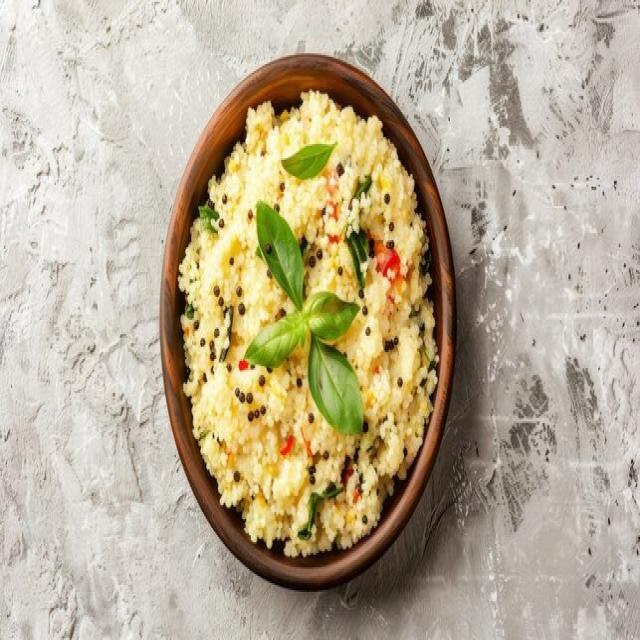UPMA: (182, 107, 433, 545)
